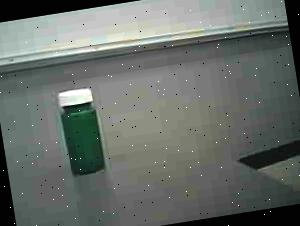Bottle C: (46, 78, 120, 184)
